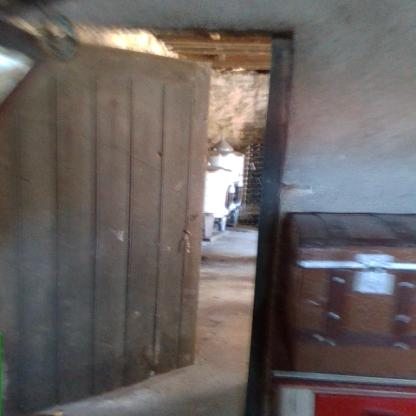semi: (0, 6, 289, 416)
